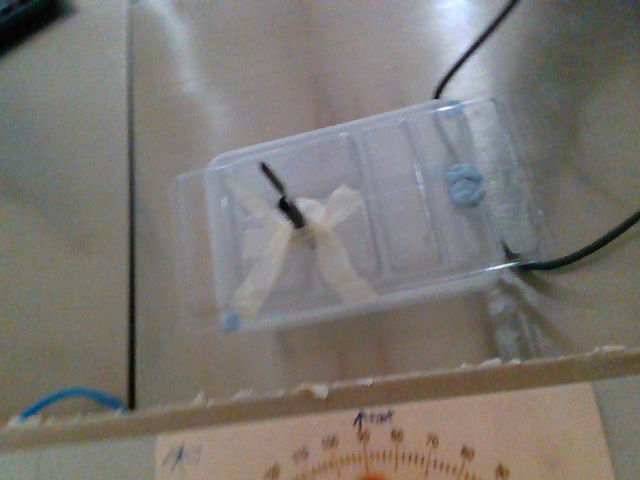test_strip: (253, 158, 293, 203)
